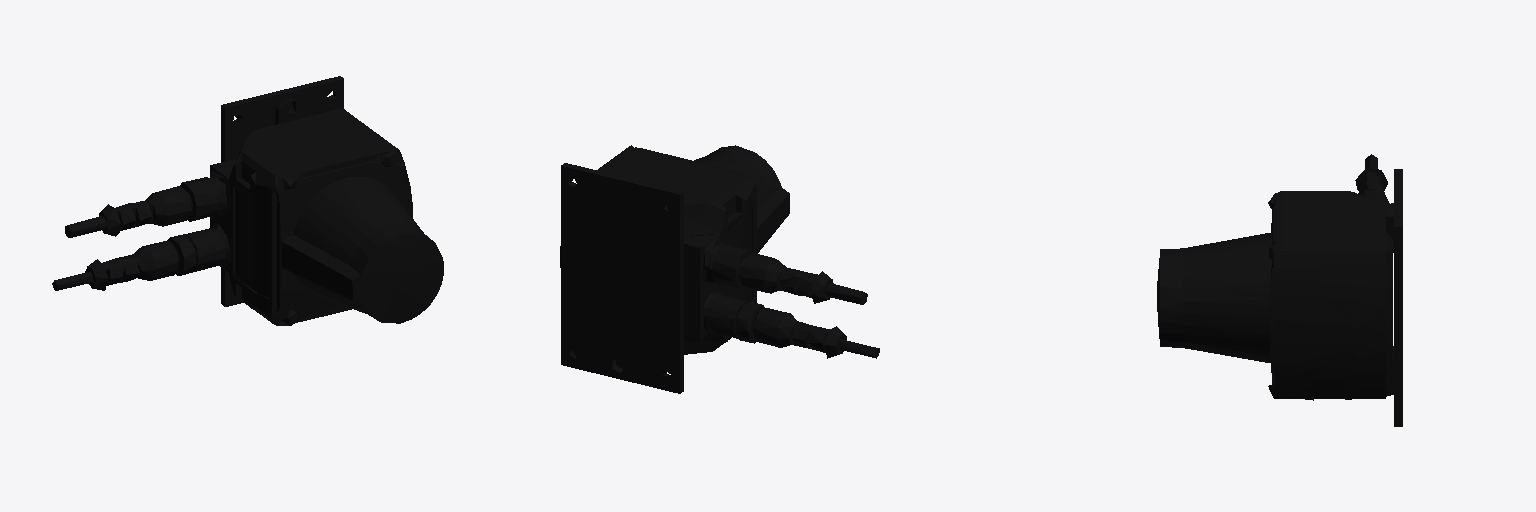
The model's file is sick_tim551.obj.
3 views of the same model, side by side, from view 1: azimuth 30°, elevation 25°; view 2: azimuth 150°, elevation 25°; view 3: azimuth 270°, elevation 25° (orthographic).
Visible parts, largest first — view 1: sick_tim551; view 2: sick_tim551; view 3: sick_tim551.
Part boxes in pixels (left/top/right/bottom): sick_tim551: left=52, top=76, right=443, bottom=325; sick_tim551: left=560, top=145, right=879, bottom=393; sick_tim551: left=1157, top=154, right=1402, bottom=426.
Size of the model in its own units: 0.1304 by 0.08 by 0.0894.